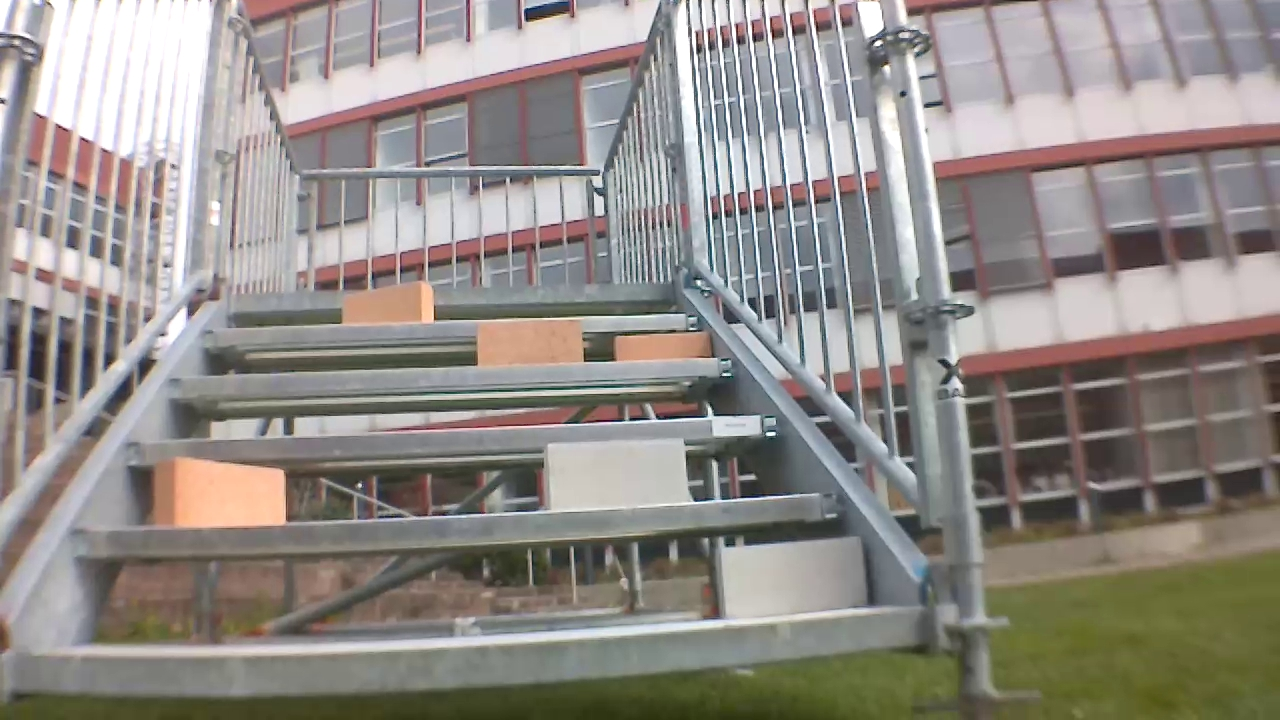brick: (717, 537, 864, 617), (544, 438, 685, 510), (154, 456, 285, 529), (478, 320, 581, 364), (342, 282, 433, 322), (615, 331, 709, 361)
edge: (15, 605, 925, 691), (71, 495, 837, 555), (124, 415, 777, 463), (168, 357, 732, 397), (202, 315, 710, 347), (229, 281, 681, 306)
stairs: (6, 5, 1011, 715)
steps: (7, 270, 937, 699)
